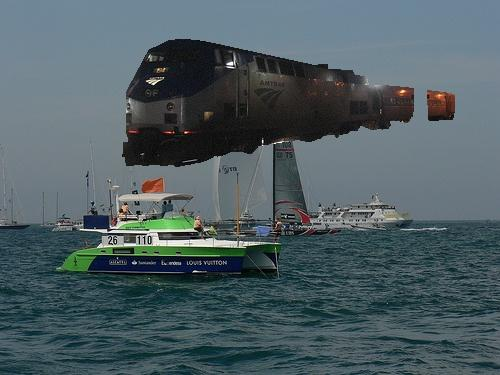tampered: (123, 40, 455, 167)
